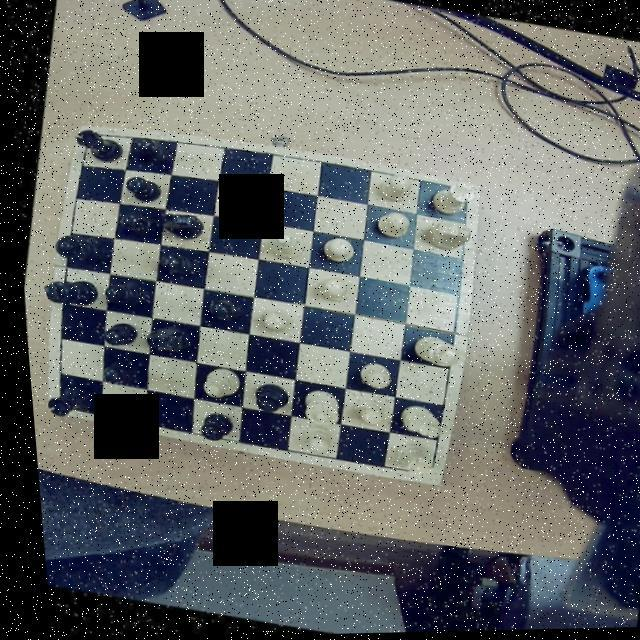chess-table-corners: (445, 182, 475, 207), (408, 460, 436, 484), (40, 395, 71, 416), (74, 126, 98, 148)
